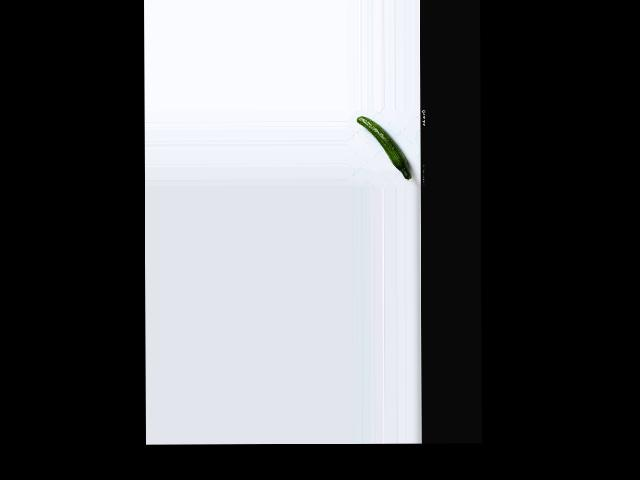cucumber: (357, 116, 411, 181)
